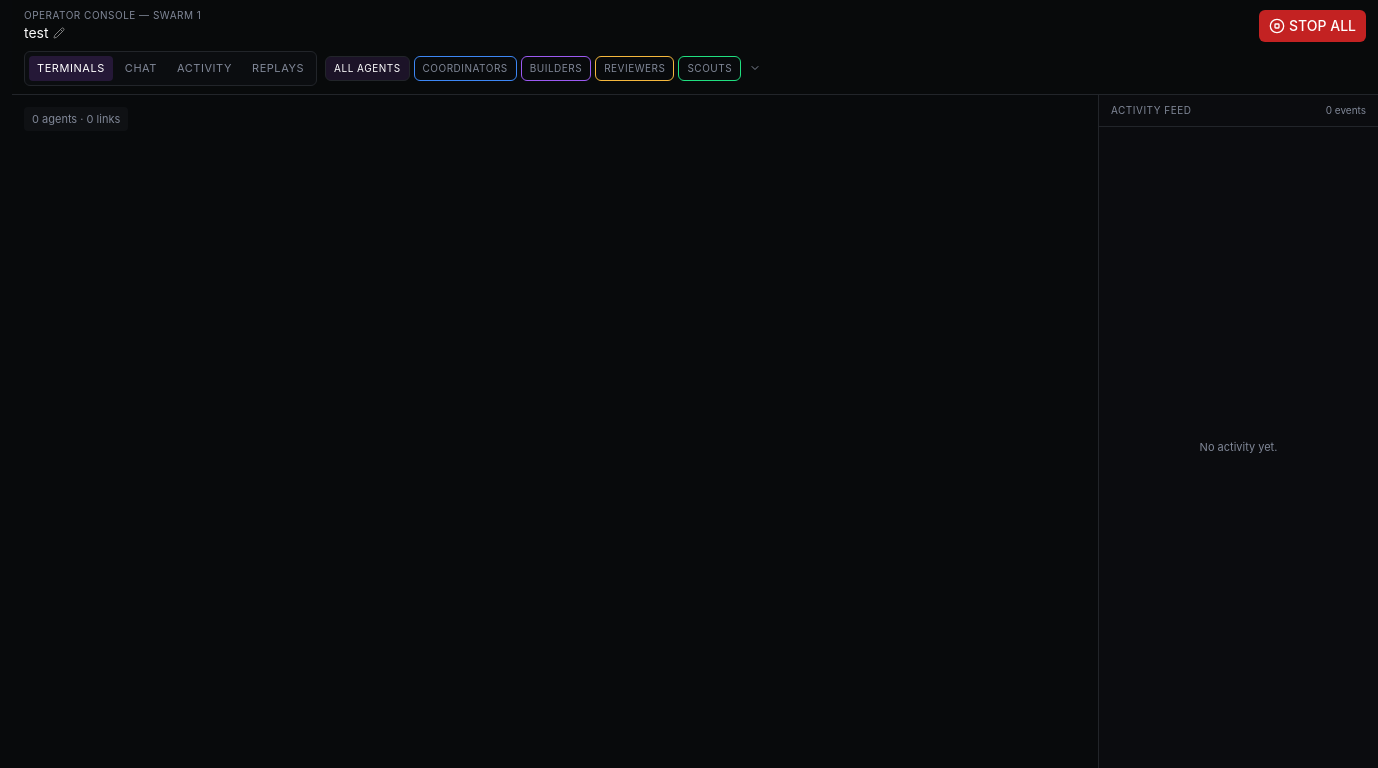
Scenario: OperatorConsole — O5: chat tab mounts OrchestratorPanel › chat tab renders OrchestratorPanel, not the placeholder text
// Navigate to the chat tab.
Step 1. Click the button "Chat" → (141, 68), box [117,56,165,80]
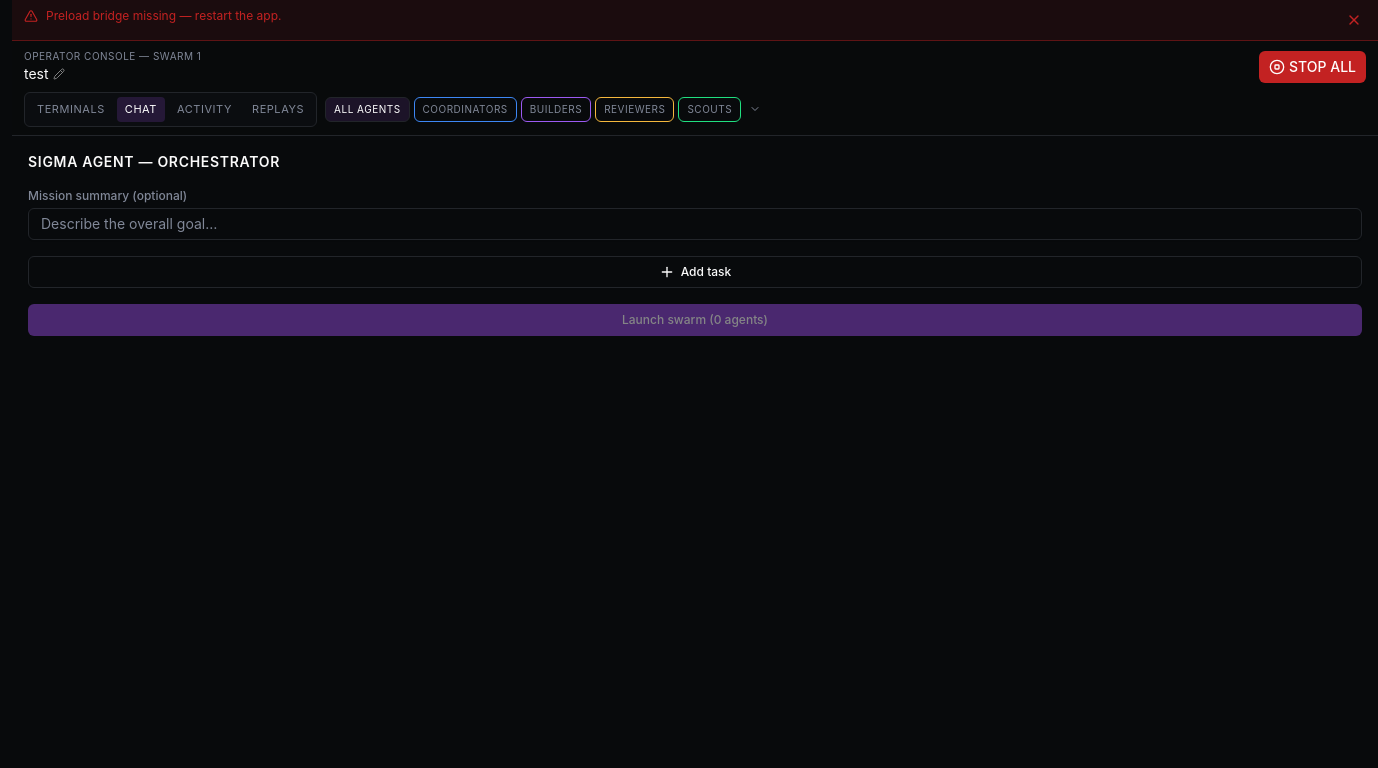
Expected: the heading "Sigma Agent — Orchestrator" is shown, [28,152,280,172]
